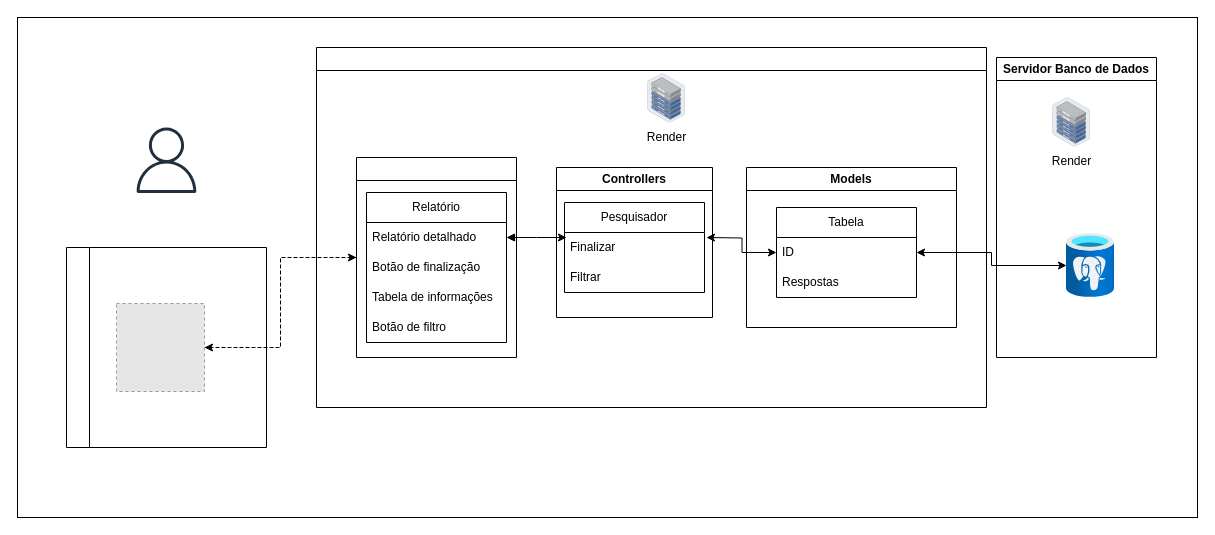
Some shapes in this 1215 by 535 pixel diagram are drawn without their labels. Grey dashed boxes stand in for pictures. The box of each missing label's shape, as (x1, y1, x2, y2) in pixels:
Cliente: (66, 246, 266, 448)
Servidor: (316, 46, 986, 408)
Usuário: (133, 127, 199, 193)
Views: (356, 156, 516, 358)
